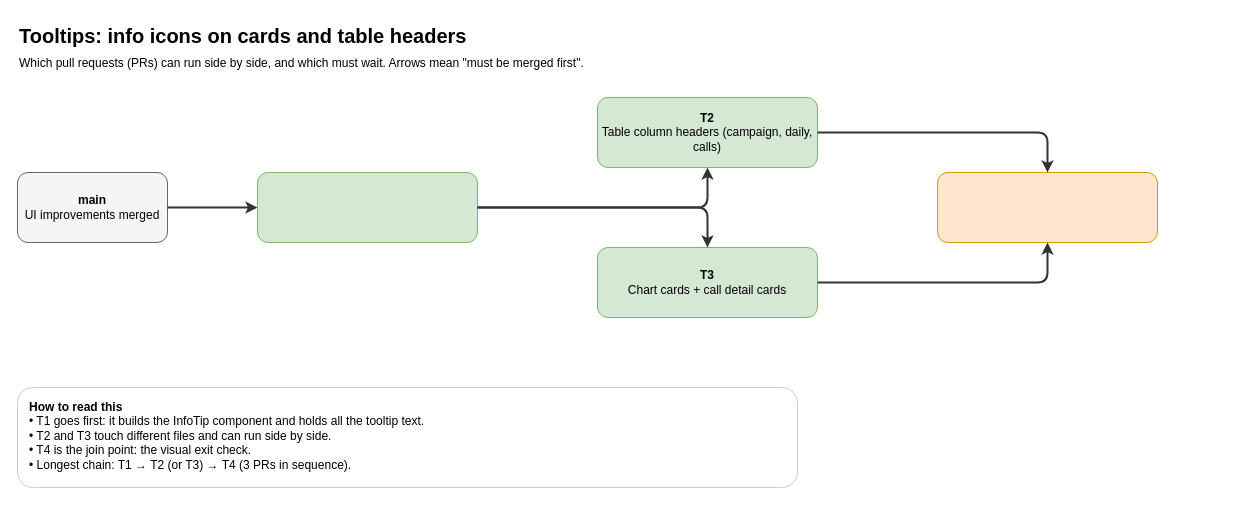
Some shapes in this 1235 by 505 pixel diagram are drawn without their labels. Here are the shapes that lost their labels. From the top down, the box of each, then its label:
(256, 172, 478, 242): T1 InfoTip + help text + KPI and missed-calls cards (+ plan docs)
(936, 172, 1158, 242): T4 Exit check in both themes, desktop and phone needs T2, T3
